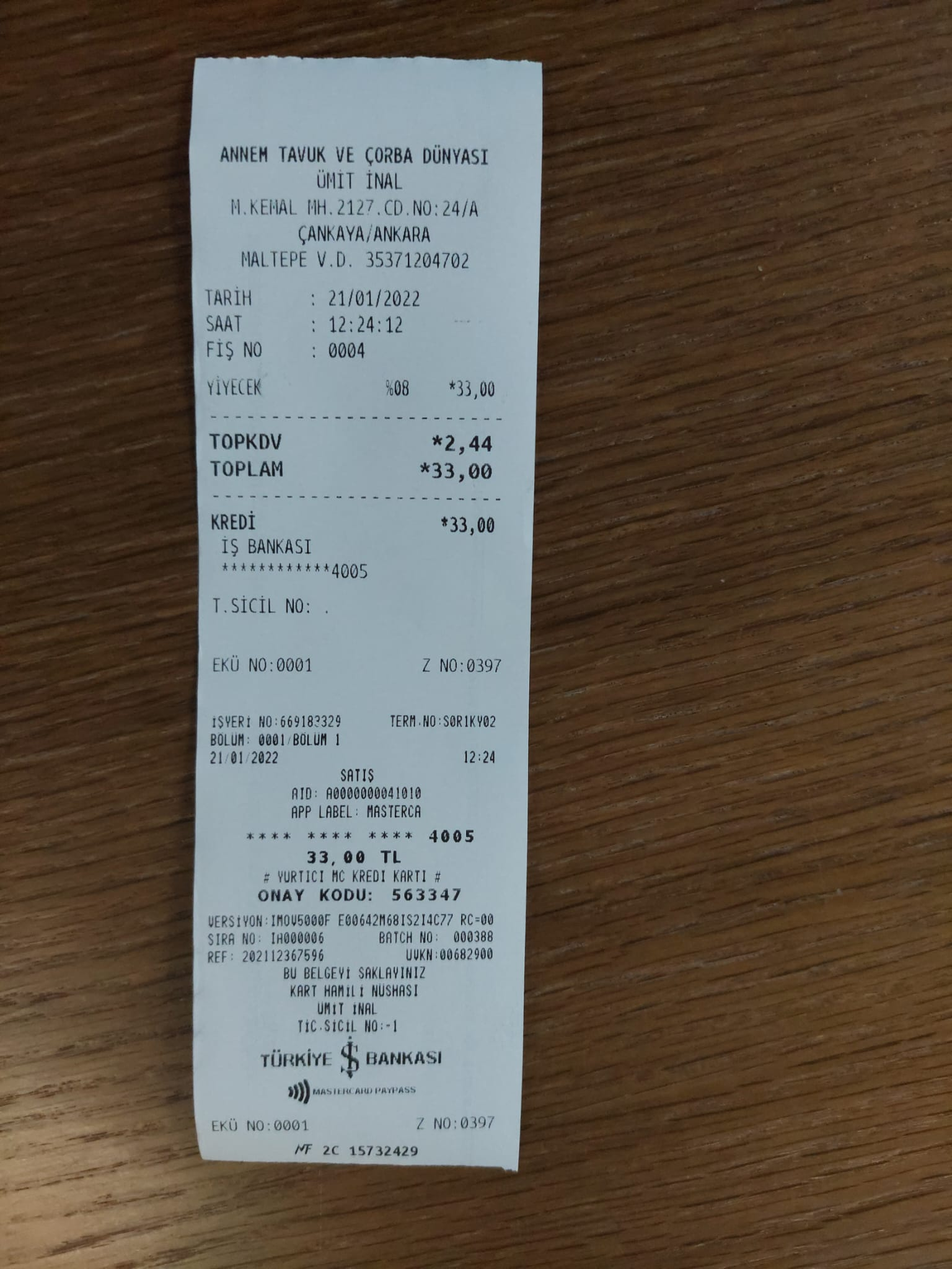date: (427, 455, 500, 491)
price: (322, 283, 427, 313)
workplace: (204, 129, 505, 249)
